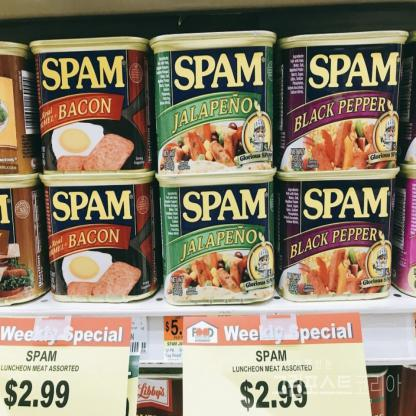spam: (162, 48, 272, 171), (44, 47, 152, 169), (284, 55, 398, 164)
